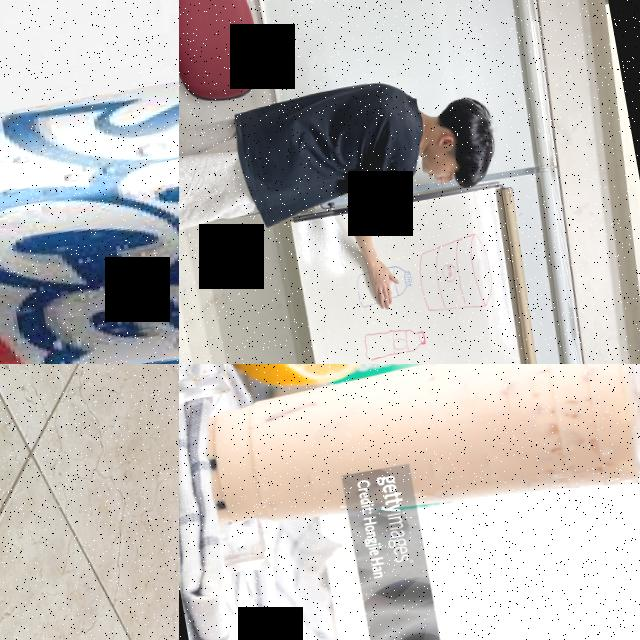bottle: (0, 364, 51, 639)
cup: (192, 364, 640, 565)
